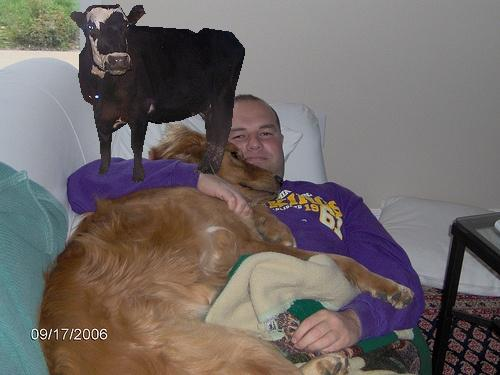tampered: (71, 5, 245, 182)
